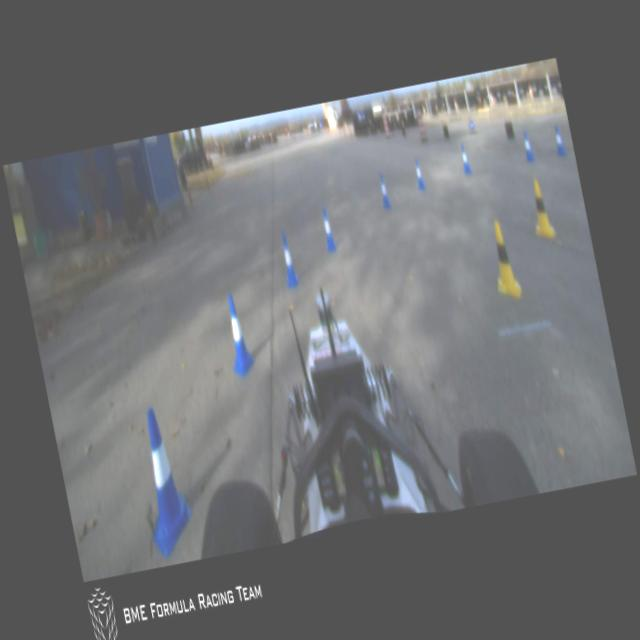blue_cone: (128, 403, 198, 558), (219, 293, 256, 376), (276, 232, 300, 289), (318, 206, 338, 250), (376, 172, 392, 208), (520, 127, 536, 162), (552, 125, 567, 157), (412, 158, 426, 190), (458, 142, 472, 174)
yellow_cone: (484, 219, 524, 304), (526, 178, 556, 242)
